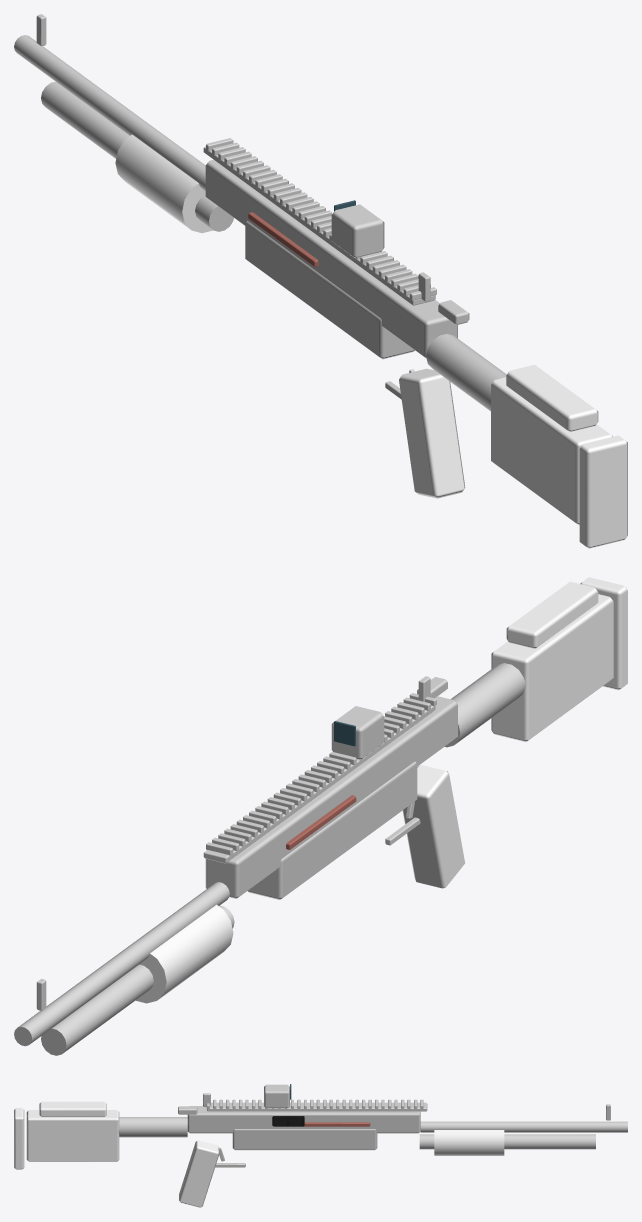
File: breacher.glb
The picture shows the model from 3 angles, top to bottom: view 1: azimuth 30°, elevation 25°; view 2: azimuth 150°, elevation 25°; view 3: azimuth 270°, elevation 25°; orthographic projection. The views are drawn at different scales.
Bounding box in the file's own units: 0.048 × 0.2013 × 0.948.
Materials: 5 (1 with a texture image).
